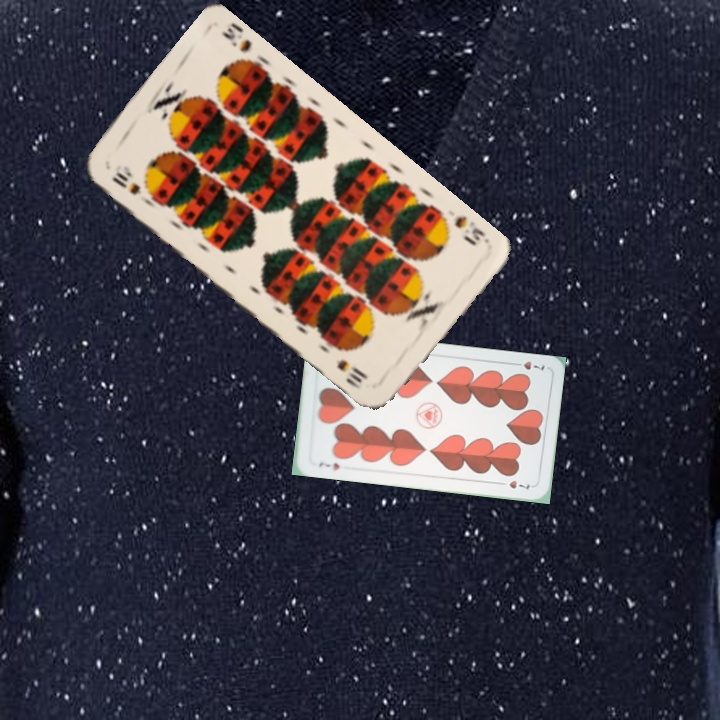H7: (508, 357, 547, 372), (315, 458, 342, 473)
S10: (450, 212, 488, 249), (108, 167, 144, 198)
